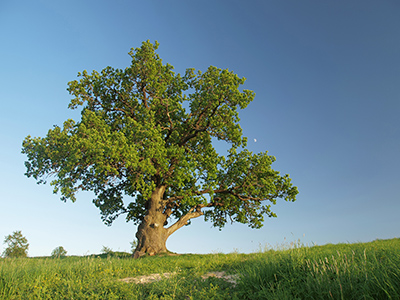tree: (21, 38, 299, 260)
